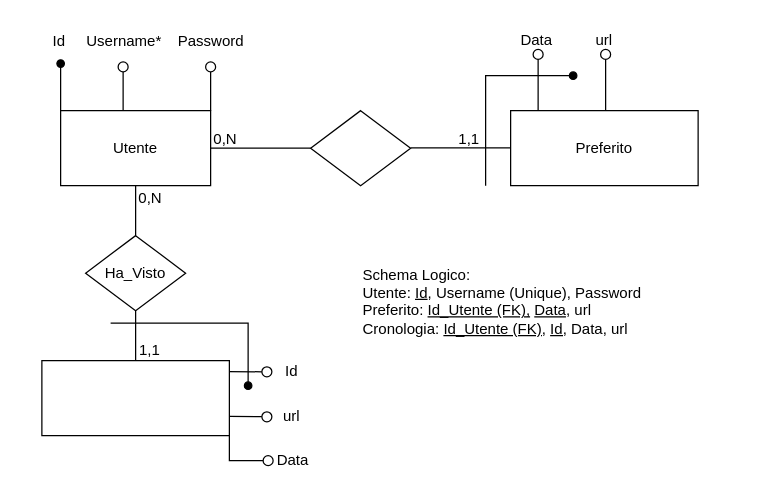
Image size: 781x500. Some labels were removed from this diagram. The shapes that lost their labels are listed below. From the top down, each one's centre as x and y in pixels, then its label:
point 360,147: Ha
point 135,397: Cronologia
